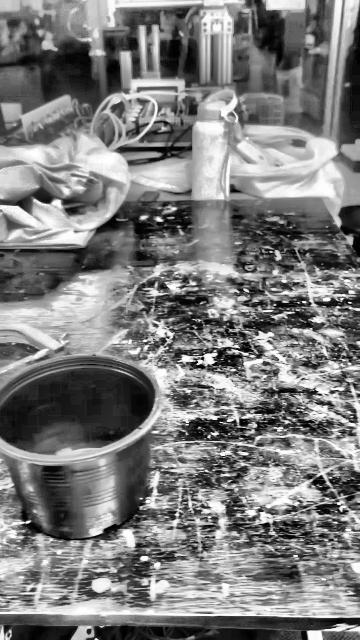pot: (1, 355, 163, 539)
